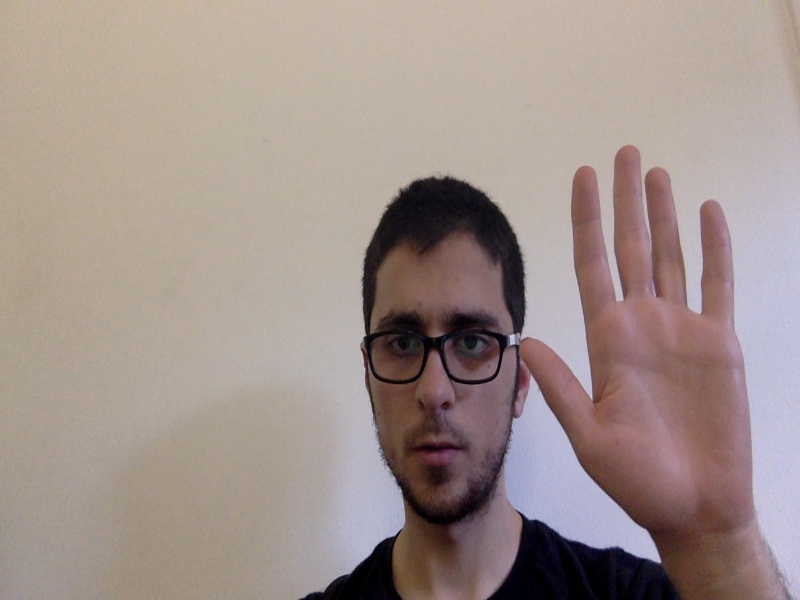5-hand: (523, 145, 755, 549)
